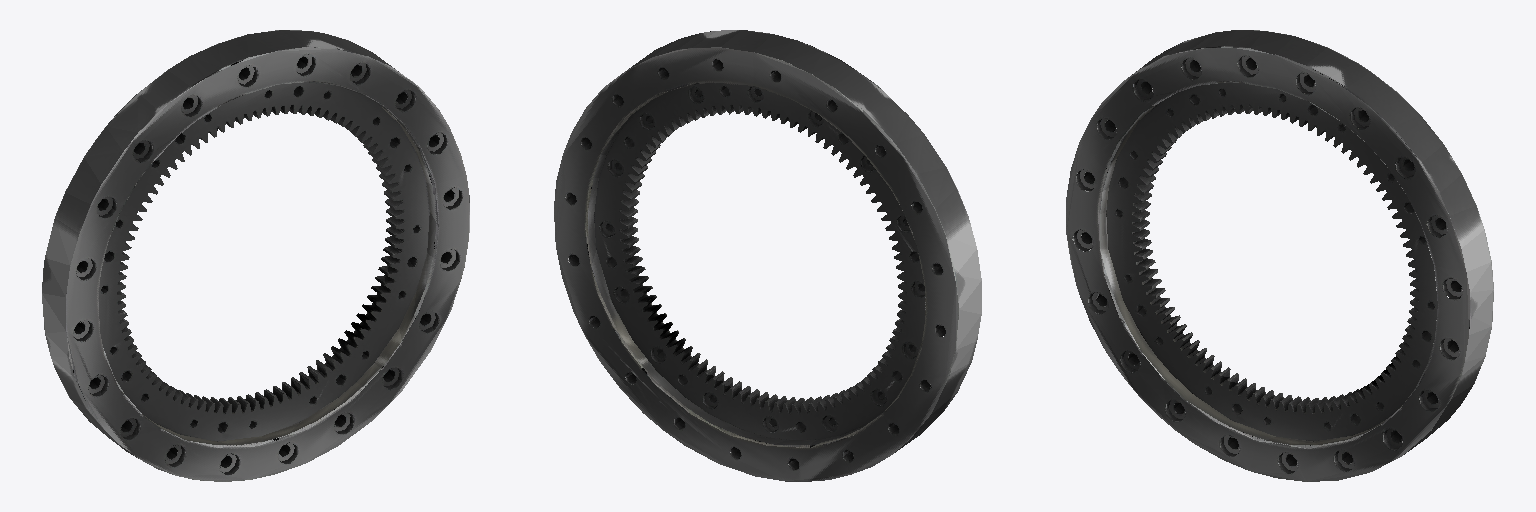
The picture shows the model from 3 angles: view 1: azimuth 30°, elevation 25°; view 2: azimuth 150°, elevation 25°; view 3: azimuth 330°, elevation 25°; orthographic projection.
Parts seen in each view (by area): view 1: PiñonEje_Mesh.2895; view 2: PiñonEje_Mesh.2895; view 3: PiñonEje_Mesh.2895.
Part boxes in pixels (bbox=[...]): PiñonEje_Mesh.2895: bbox=[42, 30, 469, 481]; PiñonEje_Mesh.2895: bbox=[554, 30, 981, 481]; PiñonEje_Mesh.2895: bbox=[1066, 30, 1493, 481].
Bounding box in the file's own units: 0.6275 × 0.6264 × 0.0654.
Materials: 1 (1 with a texture image).